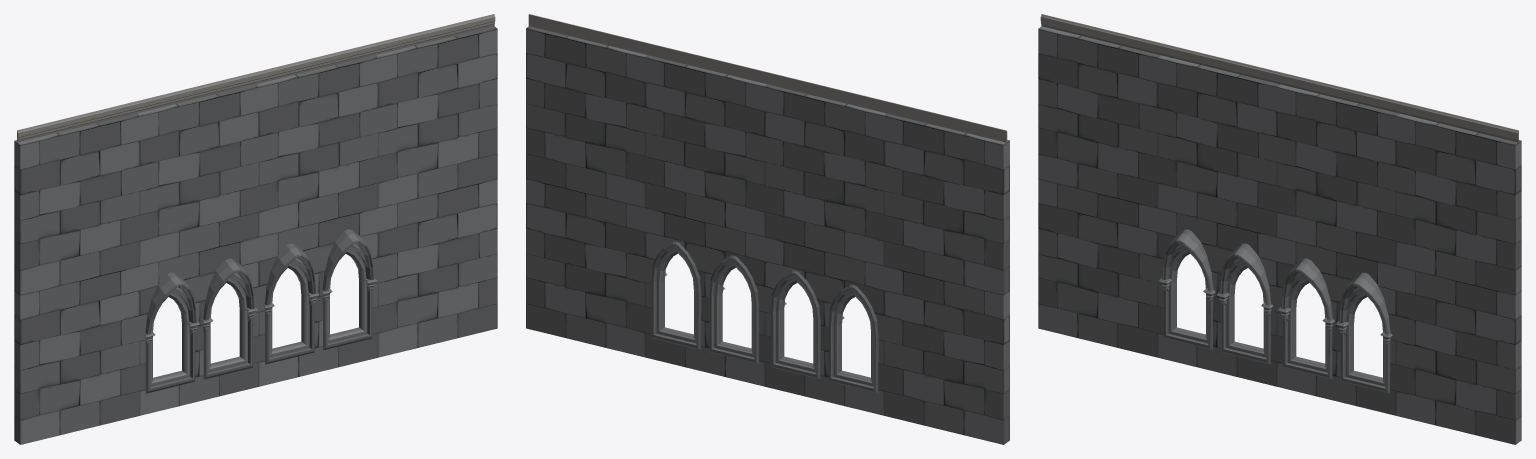
Rendered from crypt_wall_e.gltf.
3 renders of one model, left to right at view 1: azimuth 30°, elevation 25°; view 2: azimuth 150°, elevation 25°; view 3: azimuth 330°, elevation 25°, orthographic.
Parts seen in each view (by area): view 1: crypt_wall_e; view 2: crypt_wall_e; view 3: crypt_wall_e.
Boxes of the visible parts, left/top/right/bottom form: crypt_wall_e: left=14, top=14, right=497, bottom=444; crypt_wall_e: left=526, top=14, right=1009, bottom=444; crypt_wall_e: left=1038, top=14, right=1521, bottom=444.
Size of the model in its own units: 10 by 6.24 by 0.5936.
Materials: 2 (2 with a texture image).
